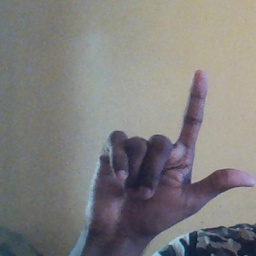L: (82, 67, 256, 237)
